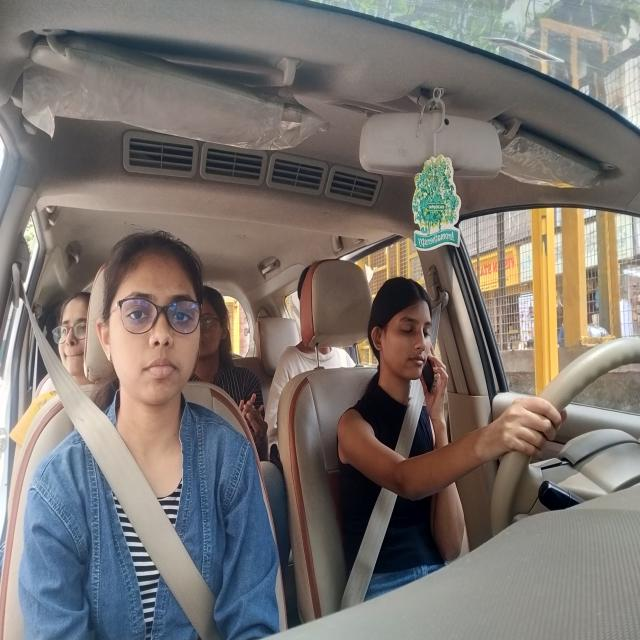mobile: (418, 355, 440, 396)
person: (93, 226, 204, 409), (365, 277, 433, 380), (54, 292, 88, 381), (198, 284, 235, 364)
